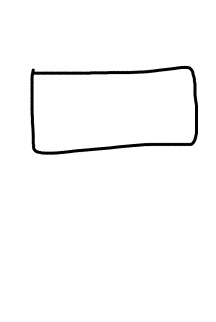Square: (27, 63, 201, 155)
